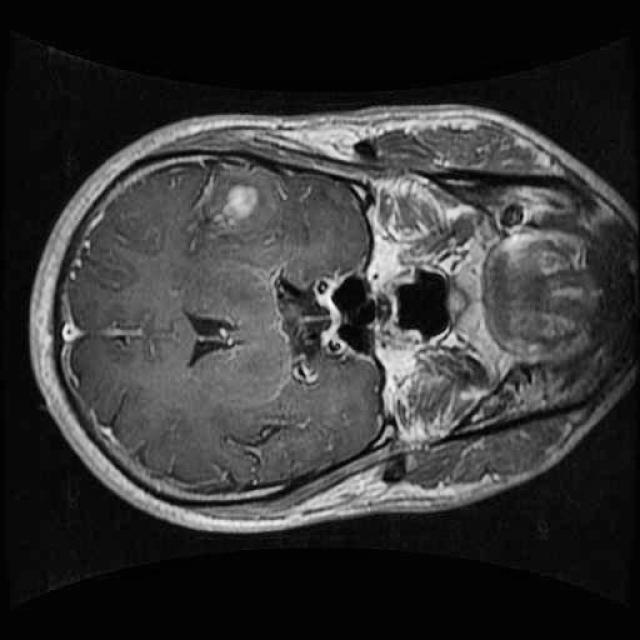Tumor: (187, 170, 281, 244)
